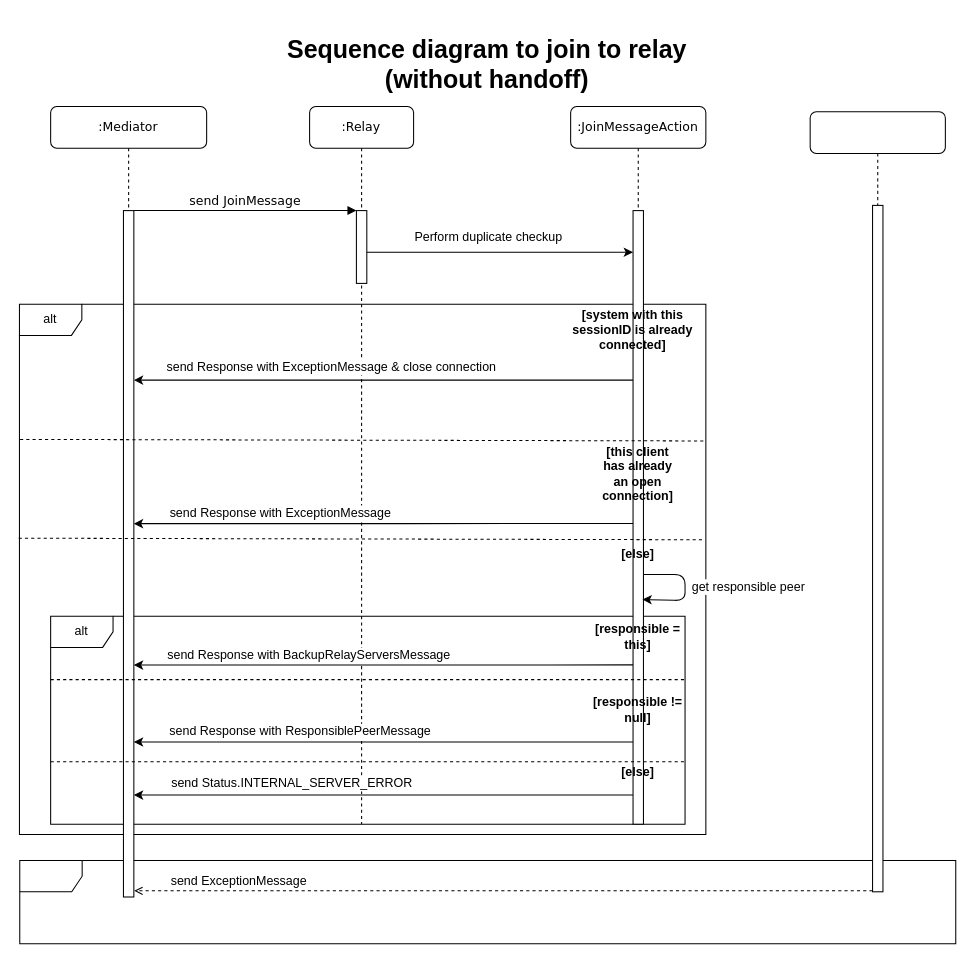
The diagram is 973 pixels wide and 962 high, and some of its shapes have lost their labels. The shapes that lost their labels are listed below. From the top down, each one's box as (x1, y1, x2, y2) in pixels, then its label:
(809, 111, 945, 892): :Clock
(19, 860, 956, 944): reached timeout
